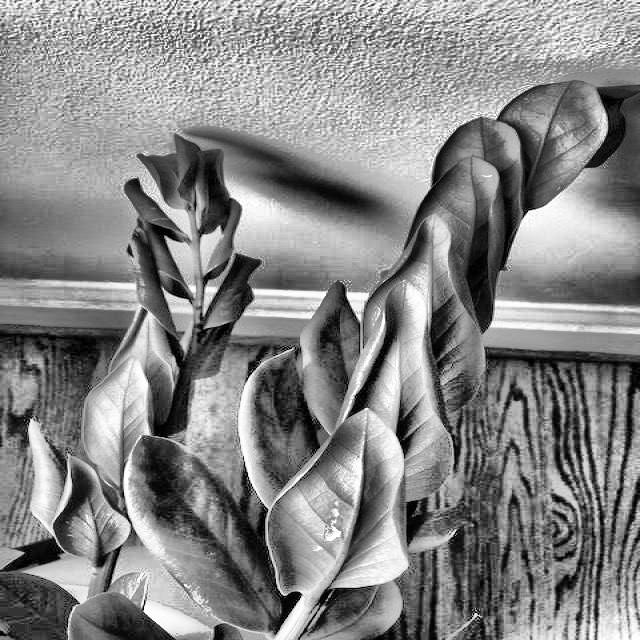plants: (53, 91, 639, 639), (65, 118, 248, 447), (279, 418, 433, 606)
